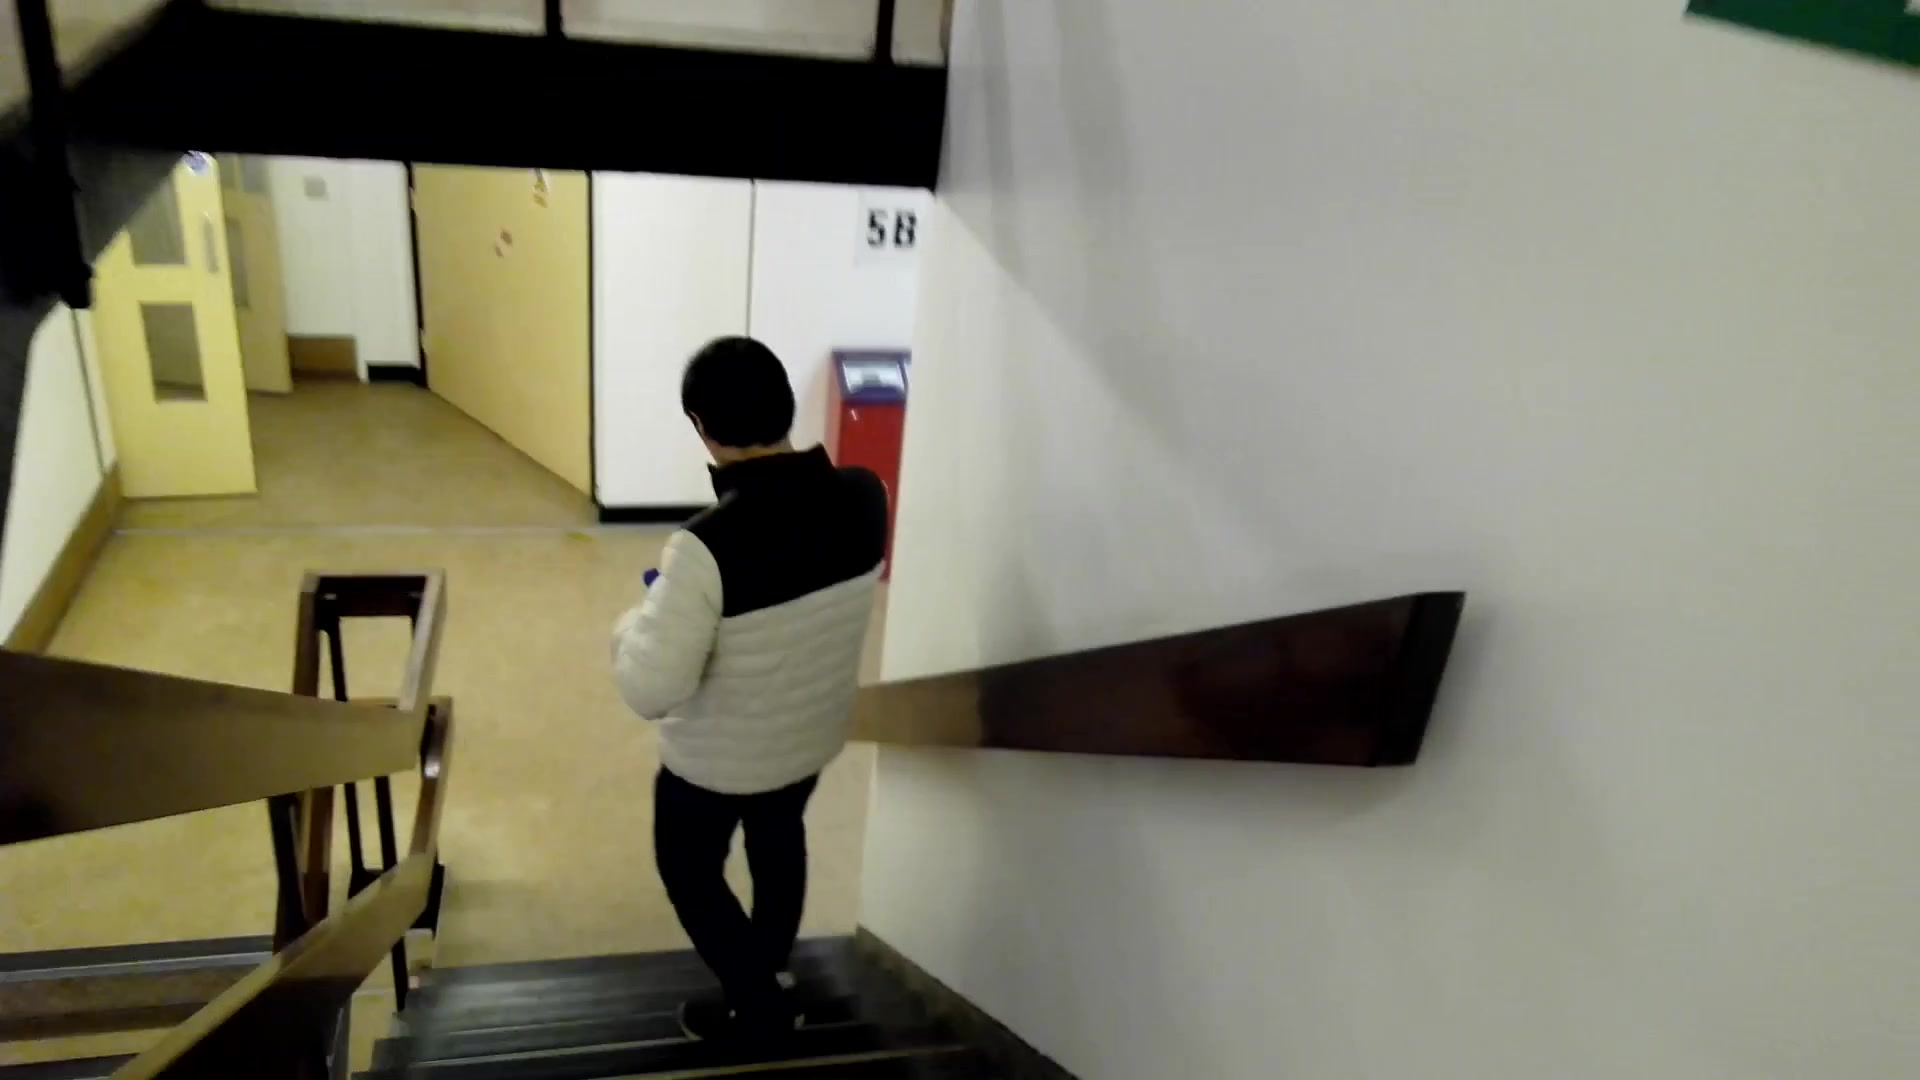Person: (665, 342, 853, 994)
Stairs: (393, 942, 1029, 1080)
